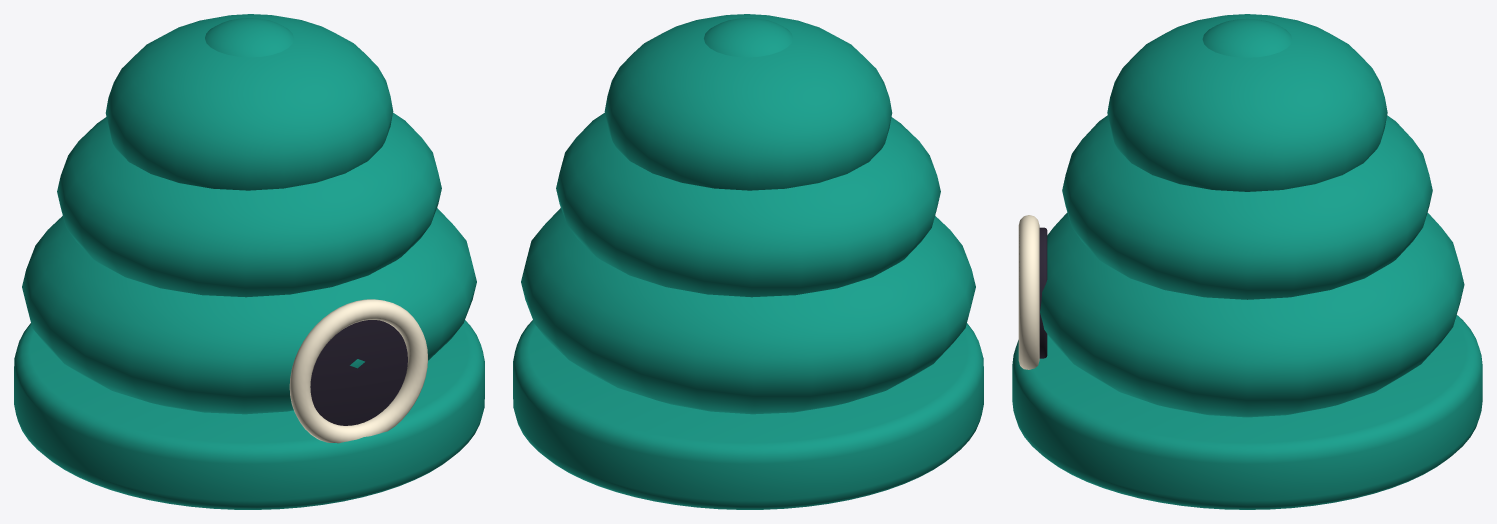
Rendered from HiveGreen.fbx.
3 views of the same model, side by side, from view 1: azimuth 30°, elevation 25°; view 2: azimuth 150°, elevation 25°; view 3: azimuth 270°, elevation 25° (orthographic).
Visible parts, largest first — view 1: Hive_Base_green.001, Hive_Lower_green.001, Hive_Mid_green.001, Hive_Top_green.001, Exit_Dark_green.001, Exit_Rim_green.001, Hive_Crown_green.001; view 2: Hive_Lower_green.001, Hive_Base_green.001, Hive_Mid_green.001, Hive_Top_green.001, Hive_Crown_green.001; view 3: Hive_Lower_green.001, Hive_Base_green.001, Hive_Mid_green.001, Hive_Top_green.001, Exit_Rim_green.001, Hive_Crown_green.001, Exit_Dark_green.001.
Part boxes in pixels (x1,y1,x2,y2): Hive_Base_green.001: [14, 320, 484, 509]; Hive_Lower_green.001: [22, 208, 476, 414]; Hive_Mid_green.001: [57, 112, 441, 297]; Hive_Top_green.001: [105, 14, 393, 190]; Exit_Dark_green.001: [310, 320, 407, 425]; Exit_Rim_green.001: [289, 299, 427, 443]; Hive_Crown_green.001: [205, 18, 293, 57]; Hive_Lower_green.001: [521, 208, 975, 414]; Hive_Base_green.001: [513, 320, 983, 509]; Hive_Mid_green.001: [556, 112, 940, 297]; Hive_Top_green.001: [604, 14, 892, 190]; Hive_Crown_green.001: [704, 18, 792, 57]; Hive_Lower_green.001: [1040, 212, 1464, 417]; Hive_Base_green.001: [1012, 315, 1482, 509]; Hive_Mid_green.001: [1062, 115, 1432, 299]; Hive_Top_green.001: [1107, 14, 1387, 191]; Exit_Rim_green.001: [1018, 215, 1039, 369]; Hive_Crown_green.001: [1202, 18, 1292, 57]; Exit_Dark_green.001: [1039, 227, 1047, 358].
Bounding box in the file's own units: 104 × 95 × 104.
